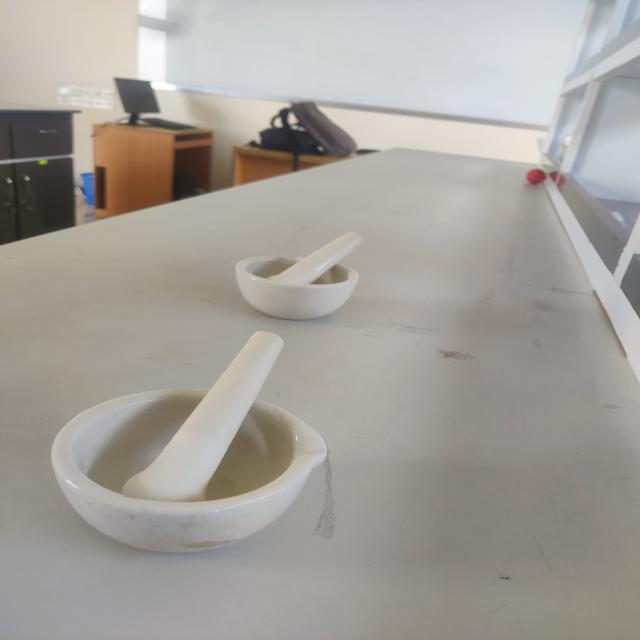Porcelain_Mortar Pestle: (28, 326, 352, 572), (231, 208, 381, 334)
